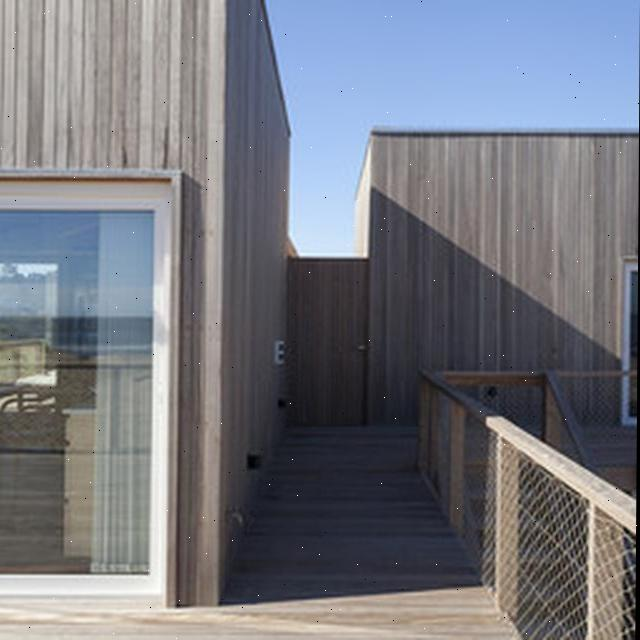building: (0, 0, 292, 600), (350, 119, 639, 431)
